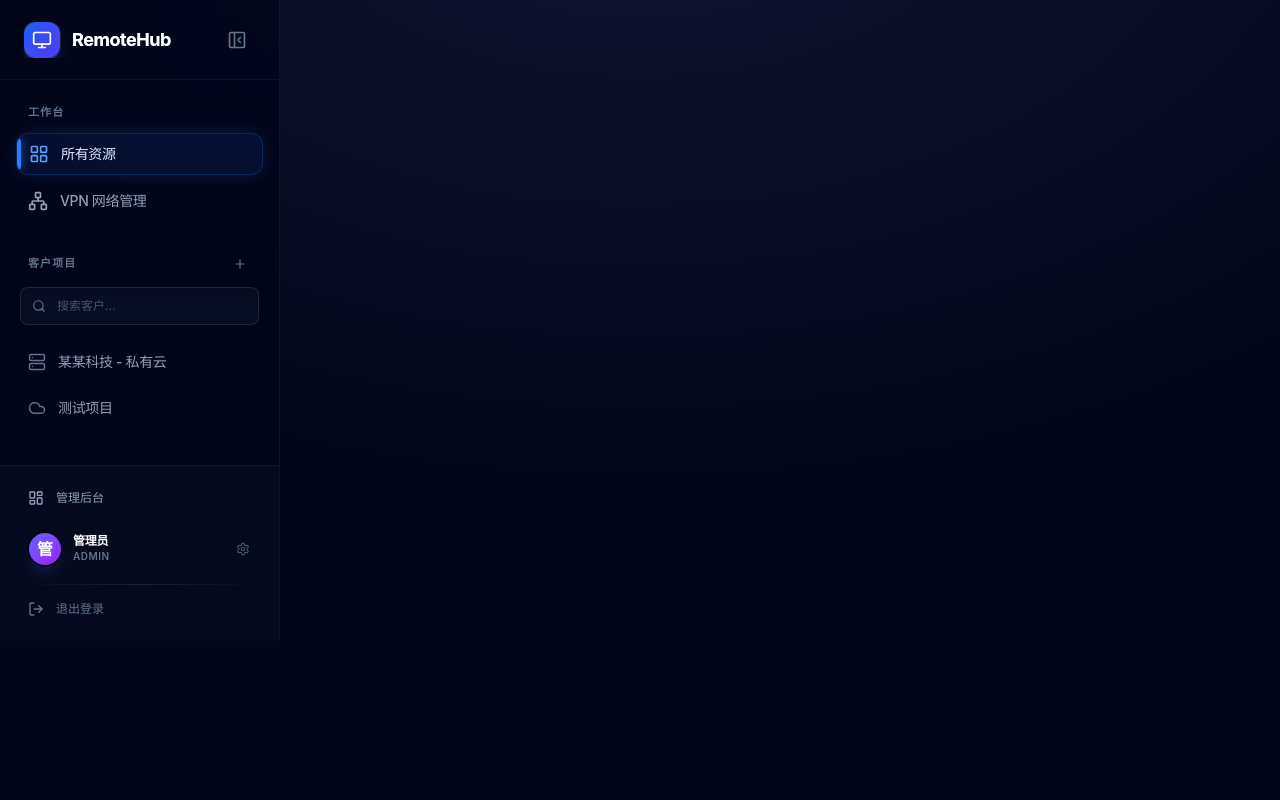
Test case: Sidebar 冒烟（T4） › 项目搜索过滤
The image size is (1280, 800).
Type "某某" into the field with placeholder "搜索客户..." at (140, 306), box top-left (20, 286), bottom-right (259, 324)
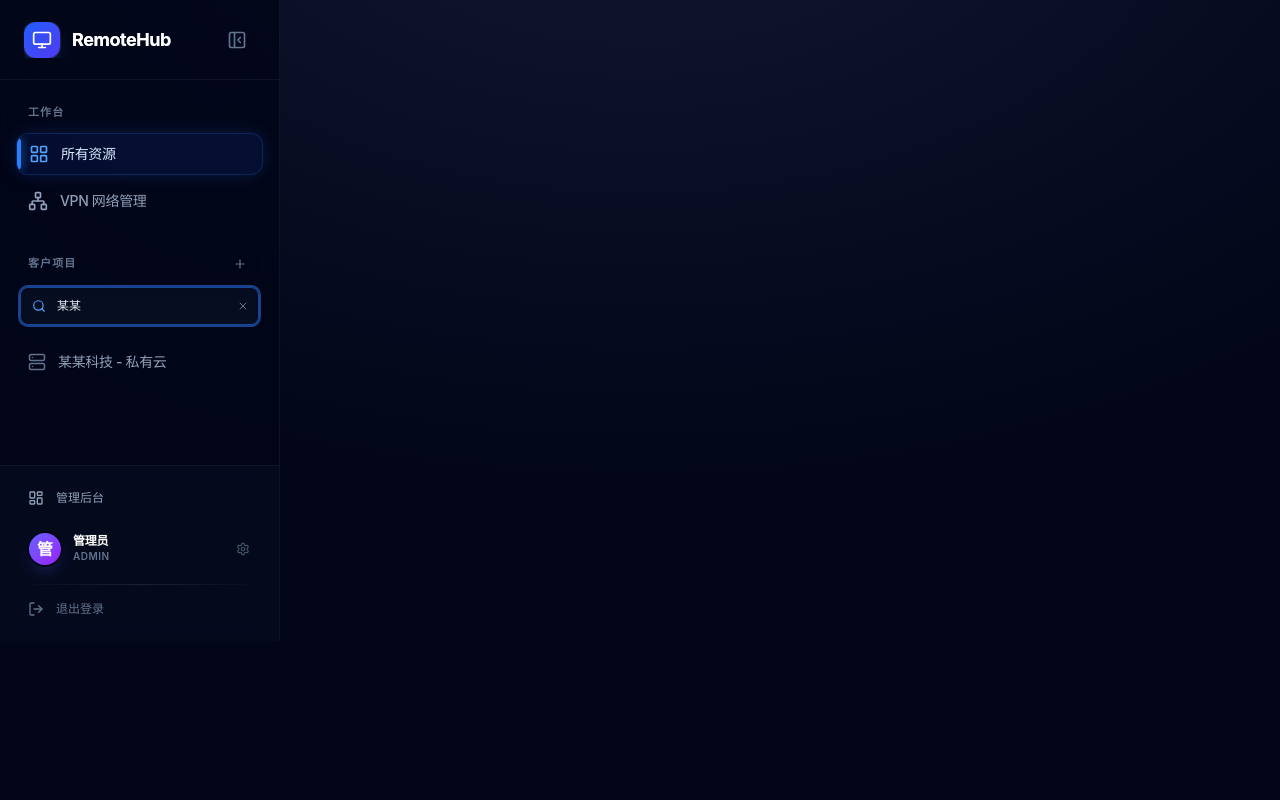
Expected: the text "某某科技 - 私有云" is shown, top-left (58, 352), bottom-right (166, 370)
Result: the button "测试项目" is gone
